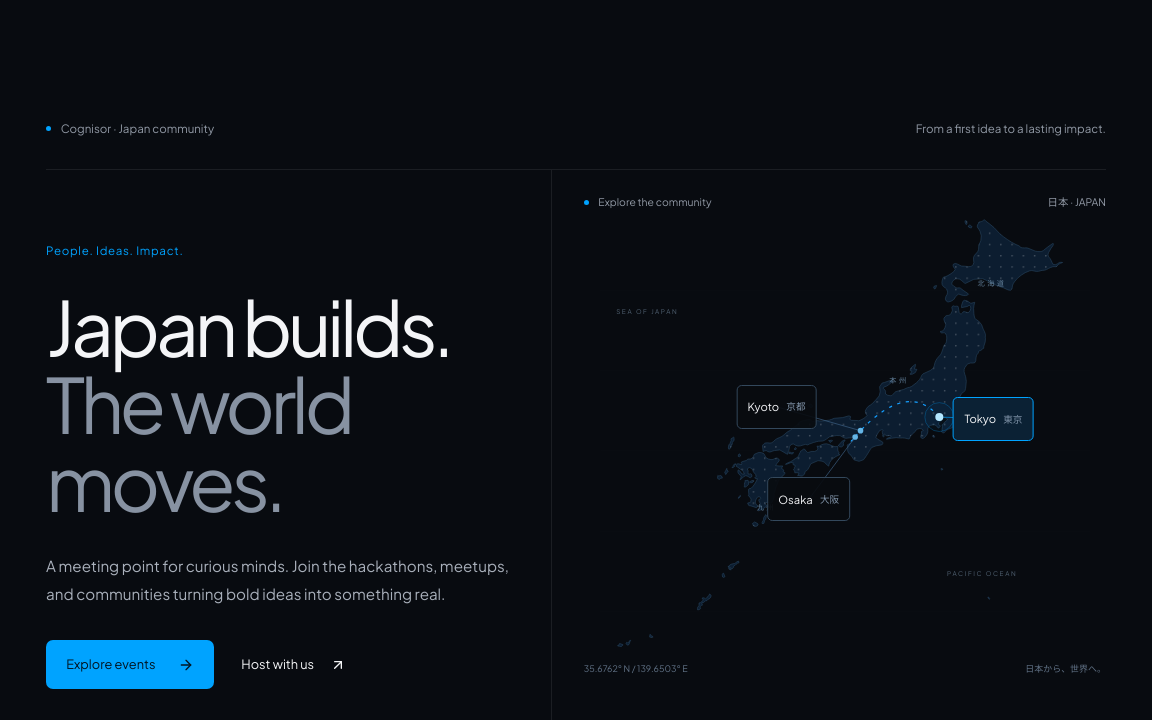
Scenario: Japan community experience › changes the city story and destination on selection
This screenshot has width=1152, height=720.
Step 1. Click the button with aria-label "Explore Kyoto" → [777, 407], box 736,385 -> 817,429
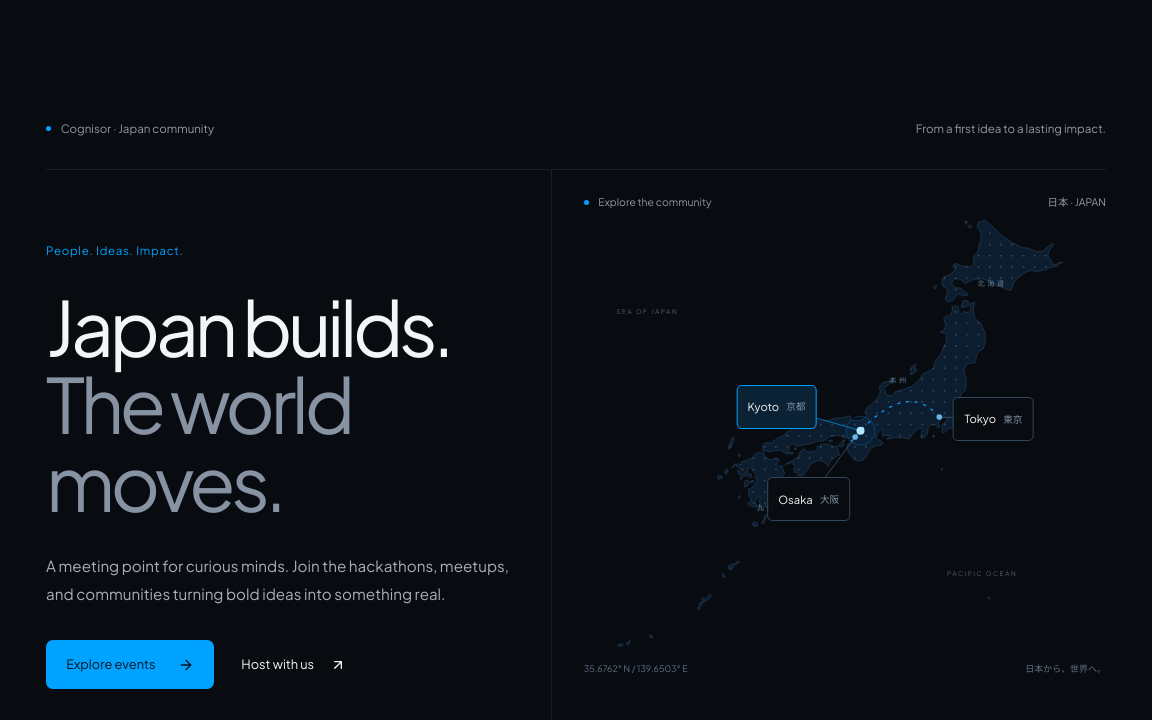
Check: the button with aria-label "Explore Kyoto" is pressed, box 736,385 -> 817,429
Step 2. Click the button with aria-label "Explore Osaka" → [809, 499], box 767,477 -> 850,521
(page scrolled)
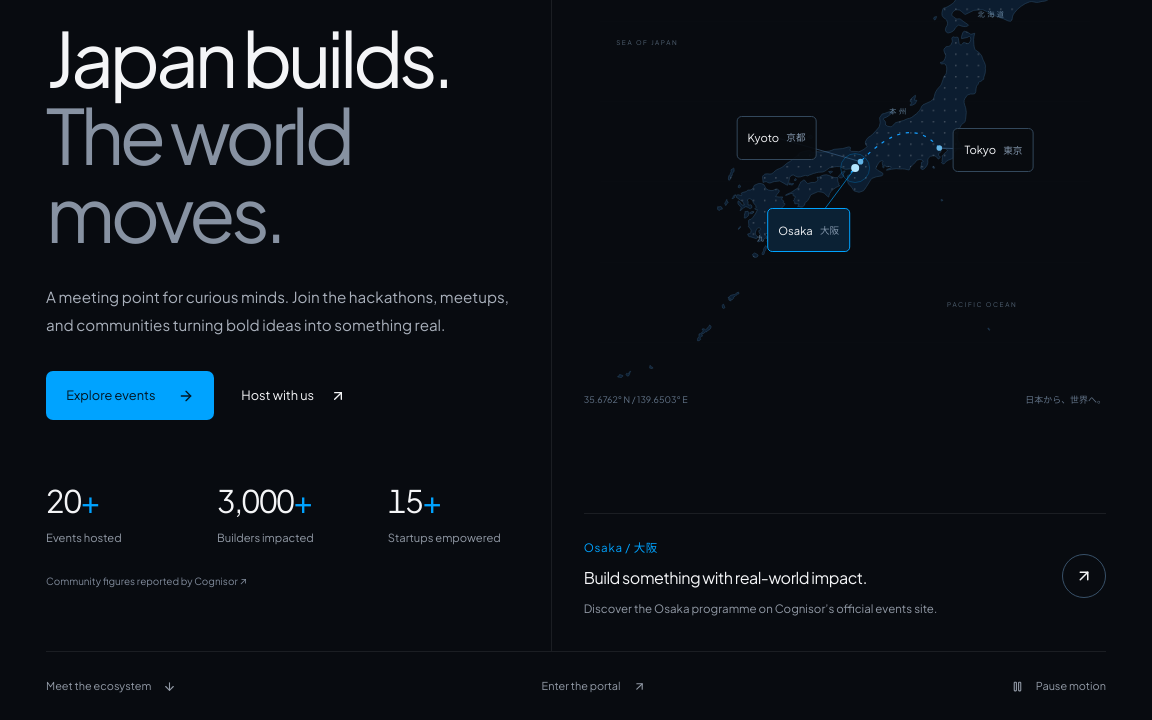
Check: the link named "Discover Osaka events" has attribute href="https://www.cognisorai.com/events/impact-osaka-hackathon-2026", box 1062,554 -> 1106,598
